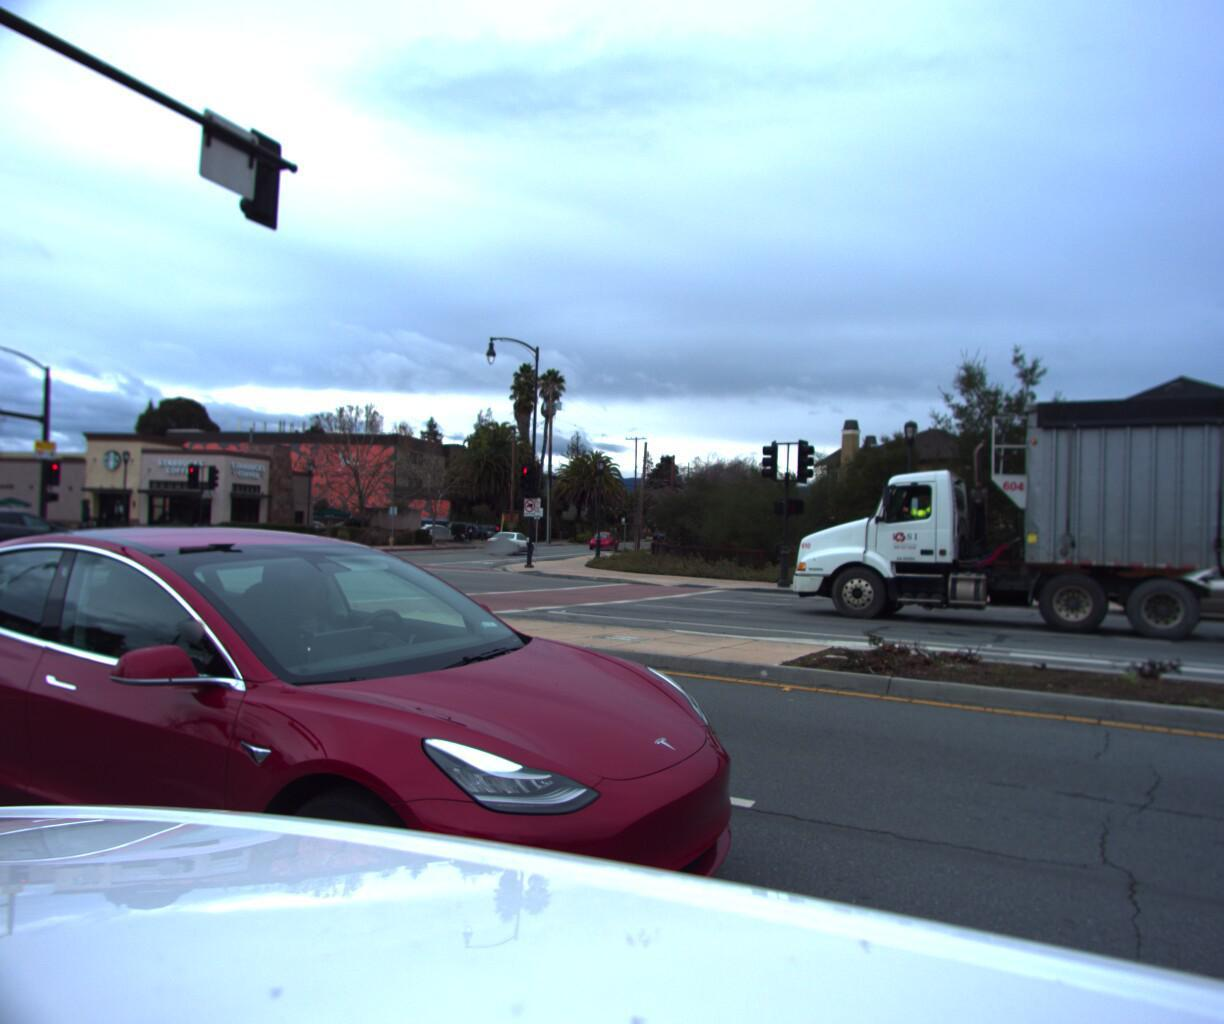car: (0, 502, 821, 1024), (1094, 548, 1224, 633), (0, 508, 102, 565), (481, 531, 539, 556), (401, 523, 460, 544), (448, 524, 502, 542), (586, 531, 621, 552)
truck: (766, 270, 1224, 778)
